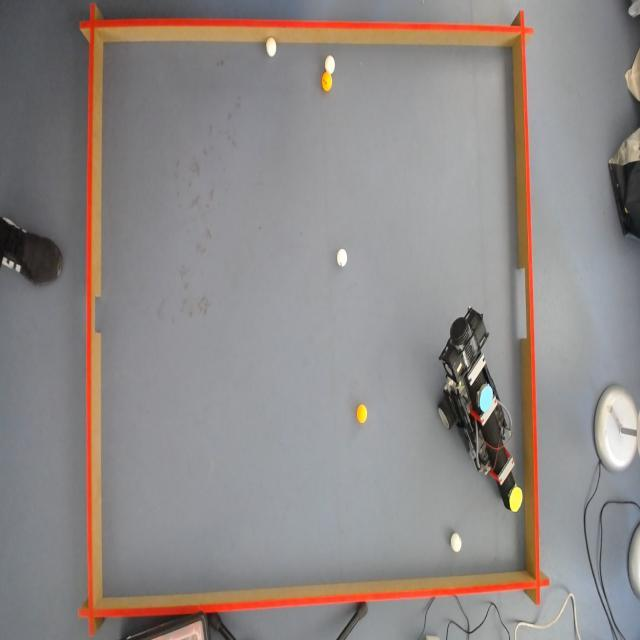orange: (356, 404, 369, 424), (320, 72, 332, 93)
robot: (444, 302, 524, 514)
robot-front: (506, 489, 524, 512)
robot-rear: (476, 379, 496, 414)
white: (449, 533, 462, 555), (266, 37, 278, 59), (336, 246, 346, 267), (326, 55, 336, 72)
